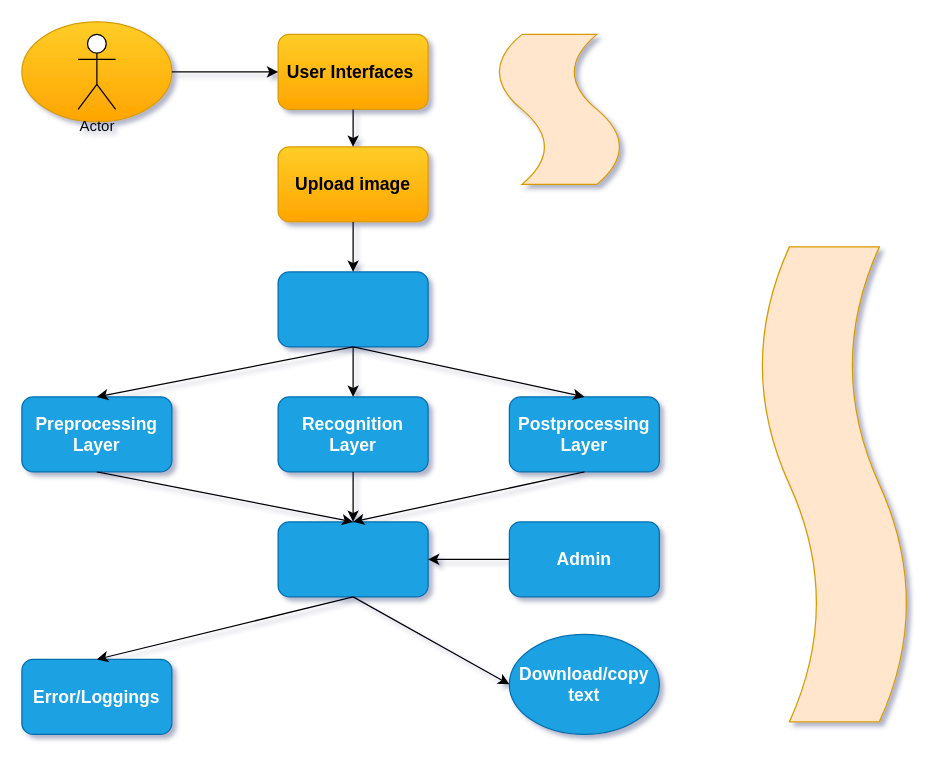
This 939x764 diagram has some shape labels left out. Each missing label, with the centre of its shape:
API Gateways: point 352,309
Back End: point 833,484
Database: point 352,559
Front End: point 559,108
